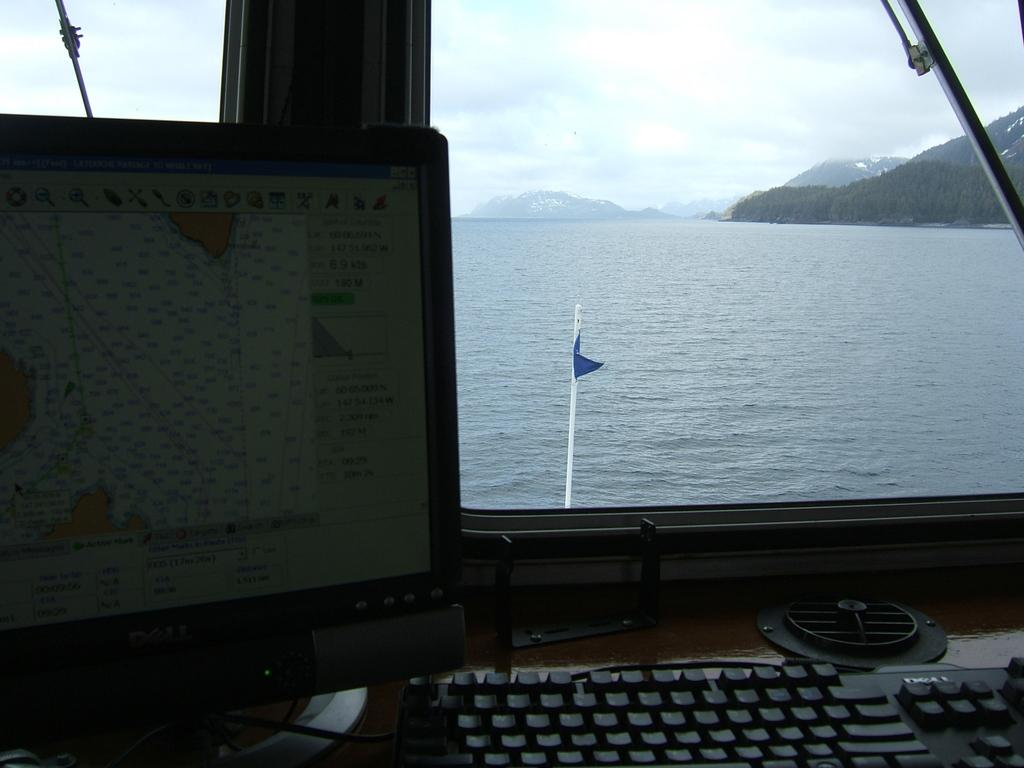Computer-keyboard: (401, 653, 1023, 767)
Computer-monitor: (19, 82, 495, 759)
